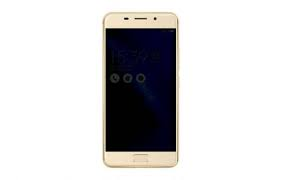asus: (99, 9, 180, 170)
